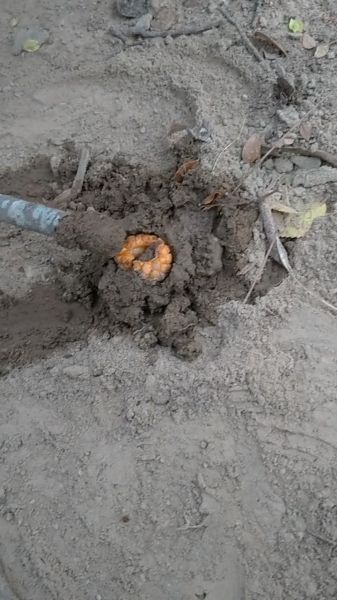eggs: (111, 230, 180, 286)
